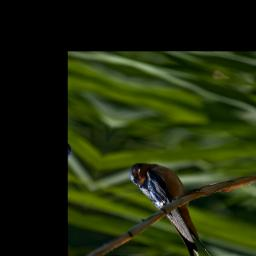Swallow: (107, 157, 247, 256)
